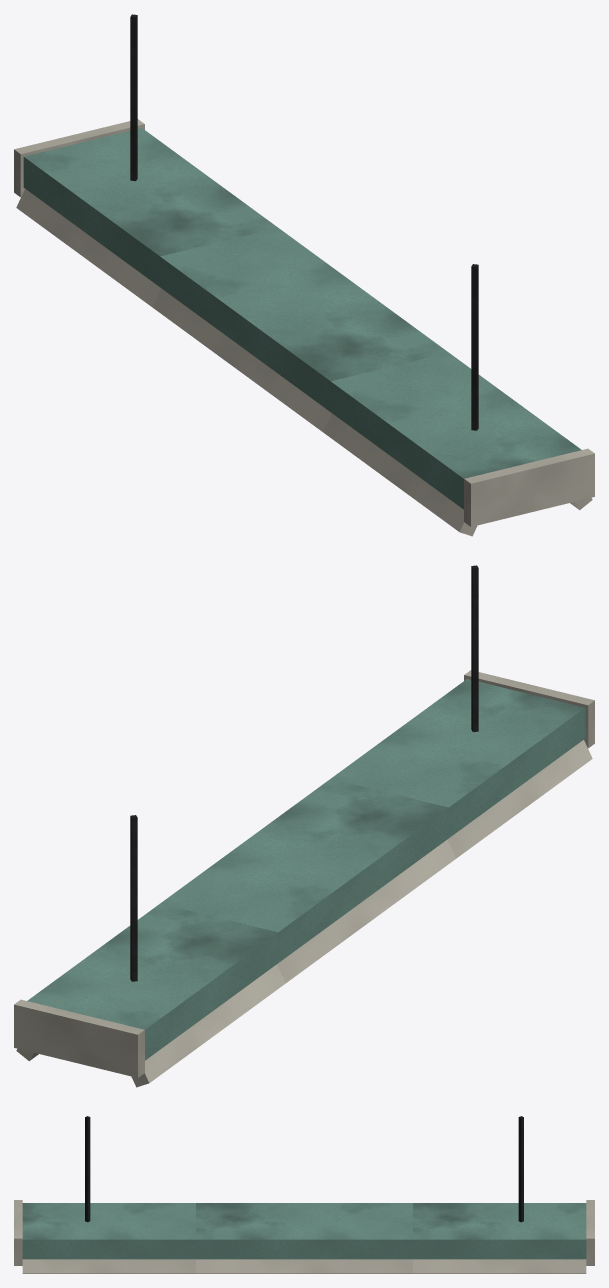
File: Lamp.obj
3 views of the same model, one above another, from view 1: azimuth 30°, elevation 25°; view 2: azimuth 150°, elevation 25°; view 3: azimuth 270°, elevation 25° (orthographic). The views are drawn at different scales.
Visible parts, largest first — view 1: housing, end, chain; view 2: housing, end, chain; view 3: housing, chain, end.
Boxes of the visible parts, <box> form: housing: <box>16,128,592,536</box>; end: <box>14,119,594,526</box>; chain: <box>130,14,478,430</box>; housing: <box>16,679,592,1087</box>; end: <box>14,670,594,1077</box>; chain: <box>130,565,478,981</box>; housing: <box>22,1203,586,1273</box>; chain: <box>85,1116,523,1222</box>; end: <box>14,1200,594,1265</box>.
Size of the model in its own units: 0.2255 by 0.3567 by 1.34.
Materials: 3 (3 with a texture image).
